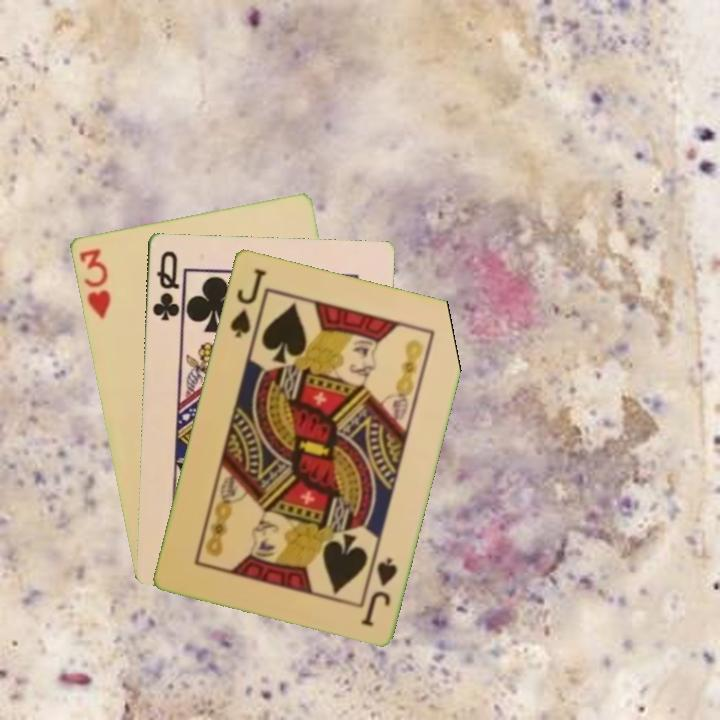3h: (75, 244, 114, 321)
Js: (356, 553, 400, 629), (226, 264, 269, 340)
Qc: (148, 247, 182, 323)
